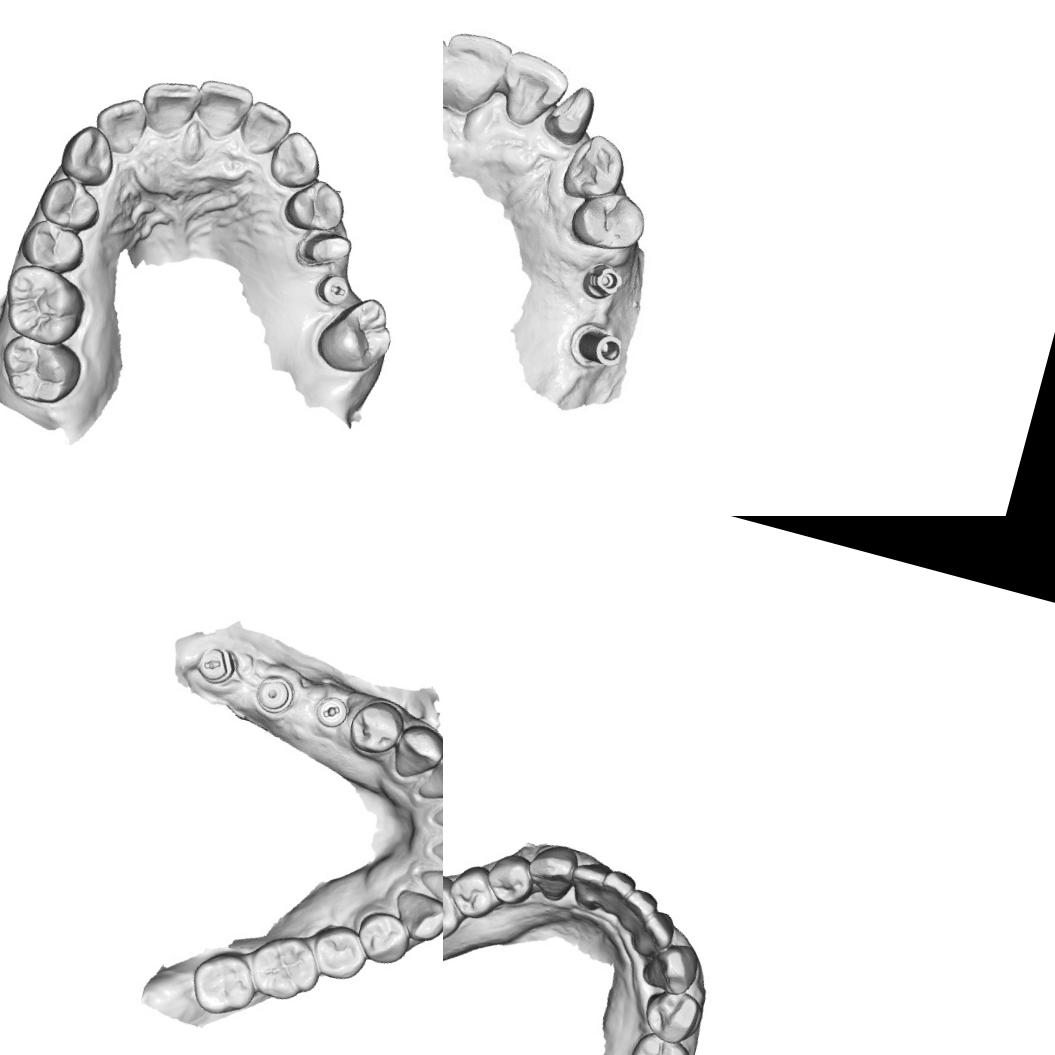canine: (552, 123, 632, 209), (53, 118, 124, 190), (264, 124, 330, 195), (520, 836, 584, 906), (640, 934, 705, 1000), (386, 718, 443, 787), (387, 885, 443, 947)
crown: (536, 76, 611, 154), (290, 220, 358, 278)
implant: (566, 316, 630, 375), (573, 255, 630, 305), (249, 668, 300, 719)
implant_minus: (192, 642, 239, 690), (310, 268, 356, 313), (311, 691, 352, 732)
incisor: (443, 25, 519, 124), (498, 50, 572, 130), (188, 72, 261, 142), (134, 70, 204, 140), (88, 88, 153, 158), (232, 95, 295, 162), (562, 852, 613, 916), (593, 865, 639, 921), (633, 905, 679, 957), (620, 884, 662, 936), (414, 747, 443, 809), (412, 861, 443, 918), (443, 26, 460, 125), (427, 827, 443, 876), (430, 787, 443, 838)
molar: (310, 285, 402, 384), (0, 258, 93, 354), (0, 328, 88, 413), (242, 926, 328, 1008), (183, 942, 264, 1024), (443, 864, 472, 954)
premolar: (572, 184, 650, 255), (30, 170, 108, 237), (14, 214, 91, 280), (636, 982, 708, 1051), (278, 170, 351, 238), (306, 918, 373, 984), (344, 694, 410, 761), (350, 905, 415, 970), (443, 857, 506, 924), (480, 847, 541, 909), (622, 1026, 699, 1055)
